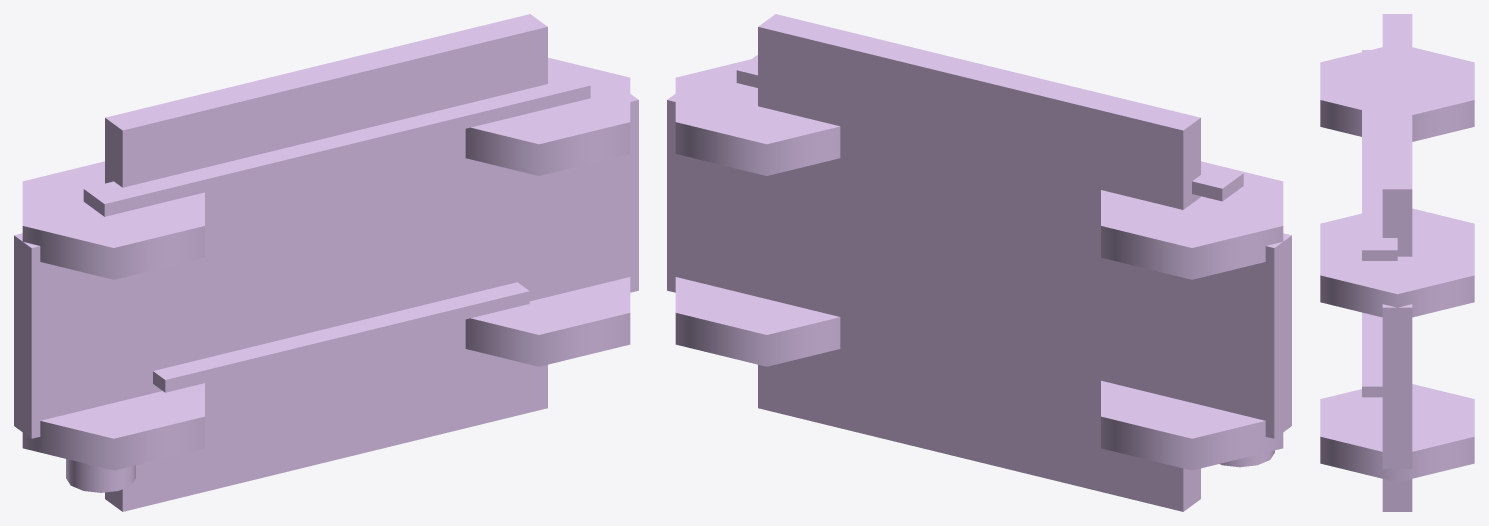
File: holo_ui.gltf
The picture shows the model from 3 angles, left to right: view 1: azimuth 30°, elevation 25°; view 2: azimuth 150°, elevation 25°; view 3: azimuth 270°, elevation 25°; orthographic projection. The views are drawn at different scales.
Parts seen in each view (by area): view 1: holo_ui; view 2: holo_ui; view 3: holo_ui.
Part boxes in pixels (x1,y1,x2,y2): holo_ui: [14, 14, 638, 511]; holo_ui: [667, 14, 1291, 511]; holo_ui: [1320, 14, 1474, 511].
Bounding box in the file's own units: 1 × 0.6 × 0.2598.
